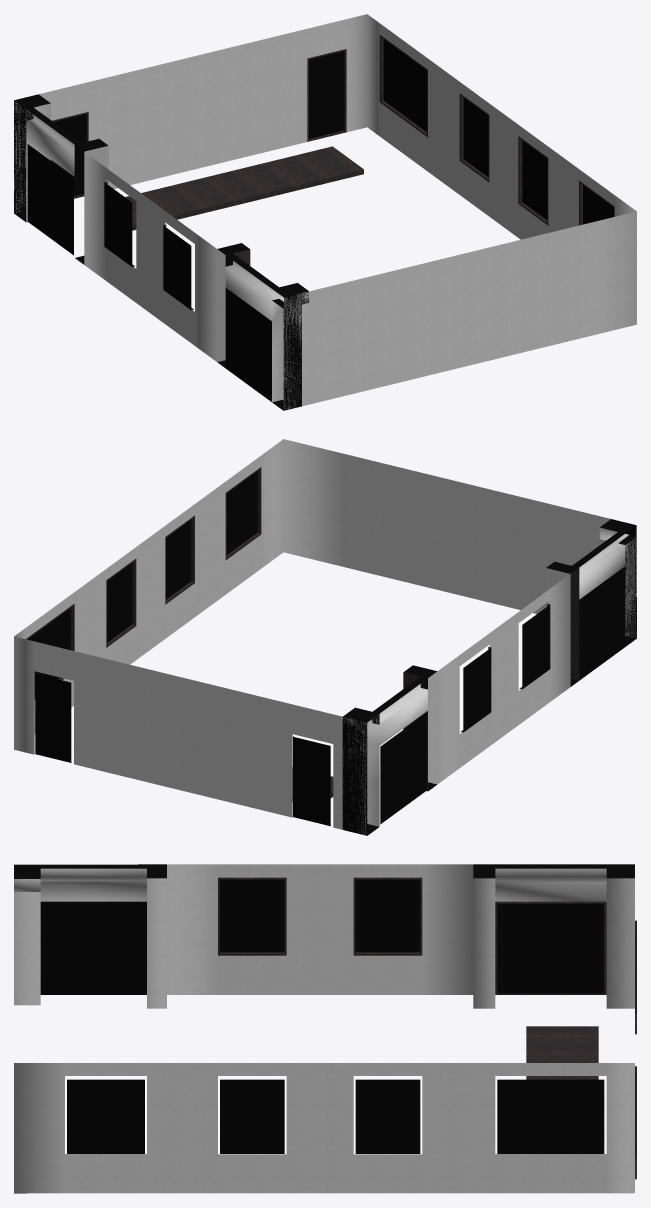
Rendered from Wall.FBX.
3 renders of one model, top to bottom at view 1: azimuth 30°, elevation 25°; view 2: azimuth 150°, elevation 25°; view 3: azimuth 270°, elevation 25°, orthographic. The views are drawn at different scales.
Parts seen in each view (by area): view 1: Wall; view 2: Wall; view 3: Wall.
Part boxes in pixels (left/top/right/bottom): Wall: left=14, top=14, right=636, bottom=410; Wall: left=14, top=439, right=636, bottom=835; Wall: left=14, top=864, right=636, bottom=1193.
Size of the model in its own units: 1170 by 353 by 1526.
Materials: 5 (2 with a texture image).
